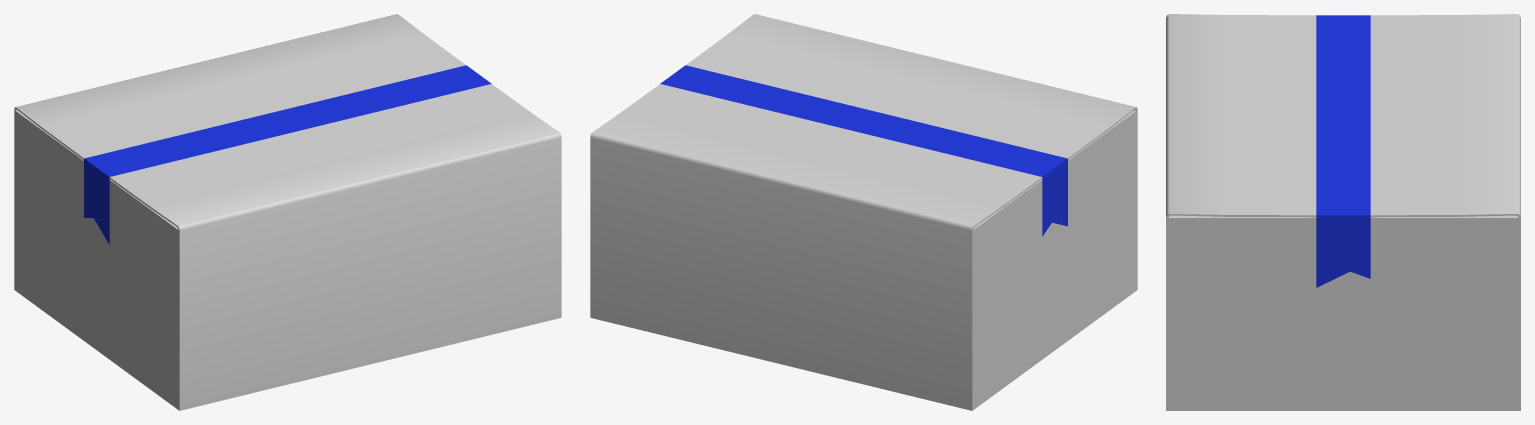
3 renders of one model, left to right at view 1: azimuth 30°, elevation 25°; view 2: azimuth 150°, elevation 25°; view 3: azimuth 270°, elevation 25°, orthographic. The views are drawn at different scales.
Parts seen in each view (by area): view 1: SM_Box; view 2: SM_Box; view 3: SM_Box.
Part boxes in pixels (x1=…): SM_Box: x1=14, y1=14, x2=561, y2=410; SM_Box: x1=590, y1=14, x2=1137, y2=410; SM_Box: x1=1166, y1=14, x2=1520, y2=410.
Bounding box in the file's own units: 0.4003 × 0.1838 × 0.3.
